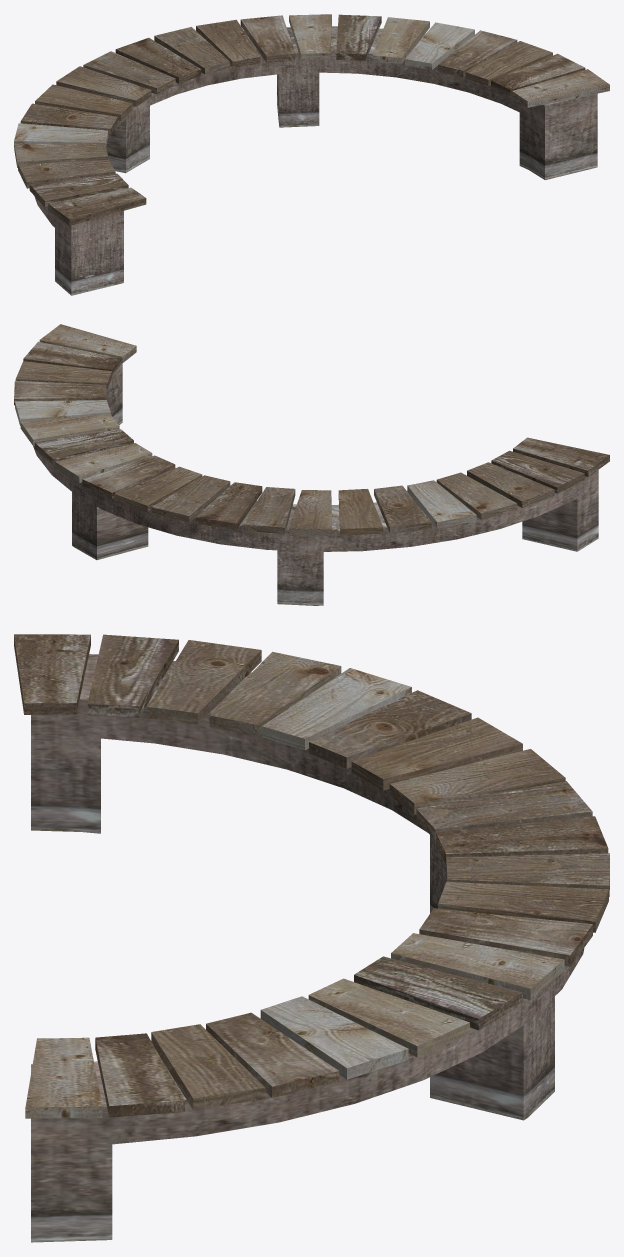
The model's file is defaultcirclebench.glb.
3 views of the same model, one above another, from view 1: azimuth 30°, elevation 25°; view 2: azimuth 150°, elevation 25°; view 3: azimuth 270°, elevation 25° (orthographic). The views are drawn at different scales.
Visible parts, largest first — view 1: DefaultCircleBench; view 2: DefaultCircleBench; view 3: DefaultCircleBench.
Part boxes in pixels (left/top/right/bottom): DefaultCircleBench: left=14, top=14, right=609, bottom=295; DefaultCircleBench: left=14, top=324, right=609, bottom=605; DefaultCircleBench: left=14, top=634, right=609, bottom=1242.
Bounding box in the file's own units: 3.57 × 0.5103 × 1.9.
2 materials, 2 textured.
